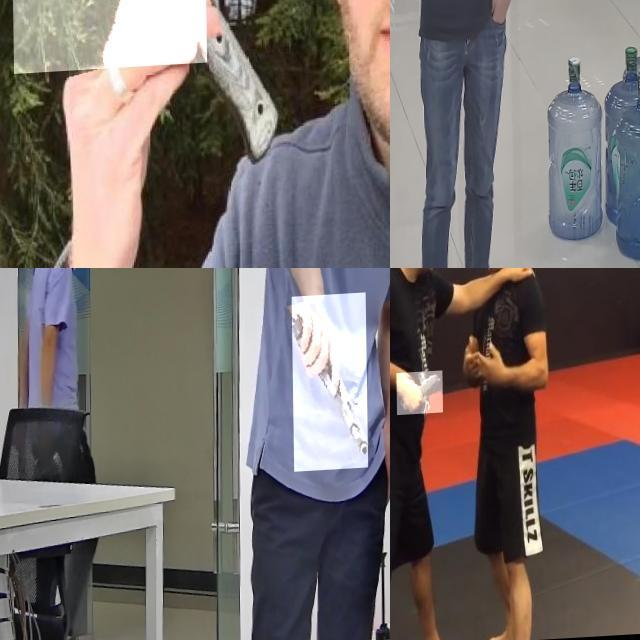-: (8, 0, 205, 177), (396, 375, 442, 419)
gun-knife-thesis - v11 Yolov5 augmented: (291, 298, 367, 476), (410, 0, 467, 54)
